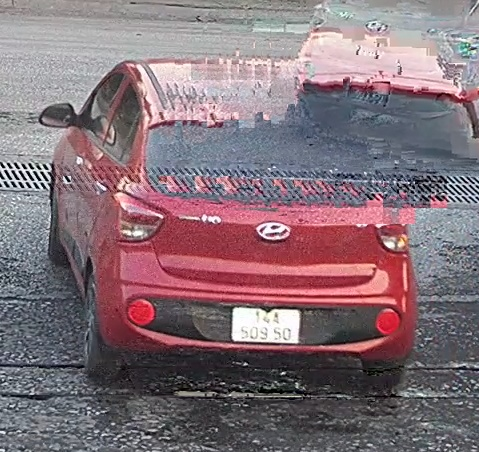vehicle plate: (230, 304, 307, 351)
